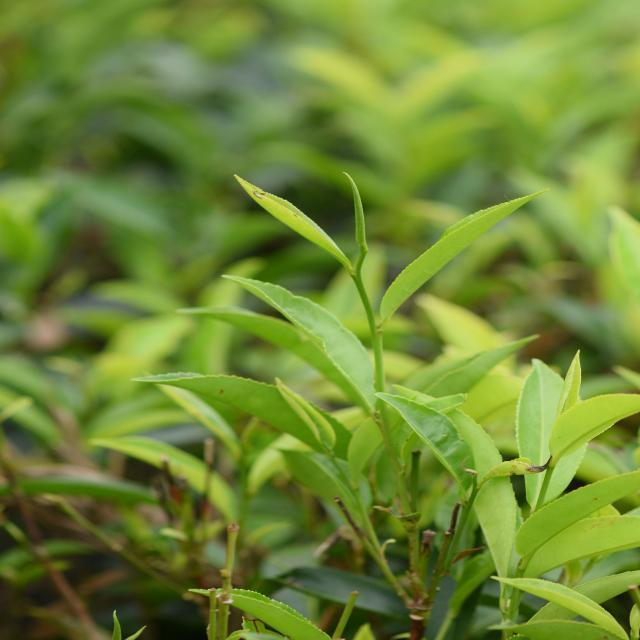Stem: (373, 329, 382, 344)
